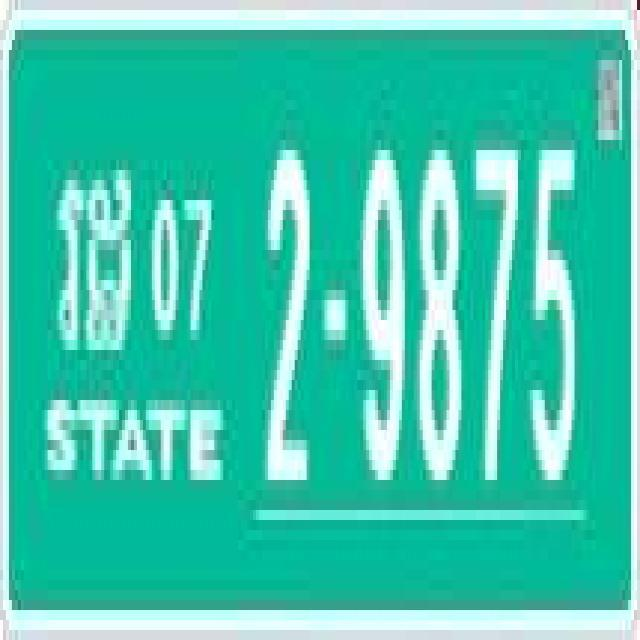State: (54, 160, 136, 370)
